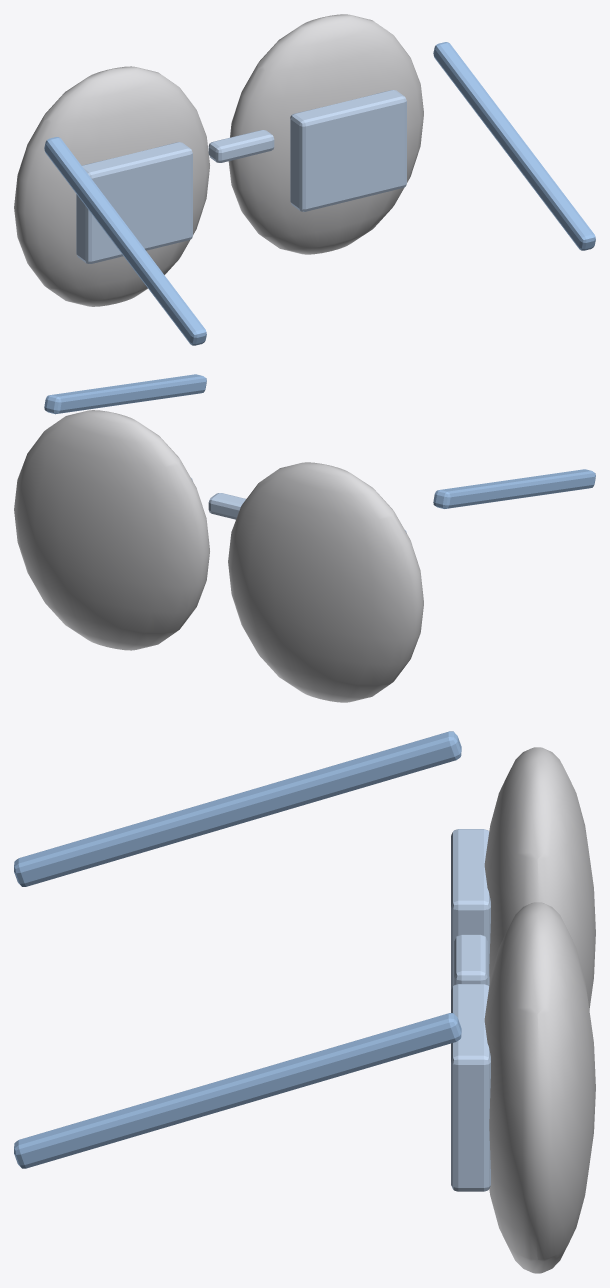
Rendered from VM-NIN-SH39965381.glb.
The picture shows the model from 3 angles, top to bottom: view 1: azimuth 30°, elevation 25°; view 2: azimuth 150°, elevation 25°; view 3: azimuth 270°, elevation 25°; orthographic projection. The views are drawn at different scales.
Parts seen in each view (by area): view 1: Gafas de Esquí Niños Juli; view 2: Gafas de Esquí Niños Juli; view 3: Gafas de Esquí Niños Juli.
Boxes of the visible parts, x1,y1,x2,y2 form: Gafas de Esquí Niños Juli: (14,14,595,345); Gafas de Esquí Niños Juli: (14,374,595,702); Gafas de Esquí Niños Juli: (14,731,595,1273).
Bounding box in the file's own units: 0.1318 × 0.0727 × 0.1104.
